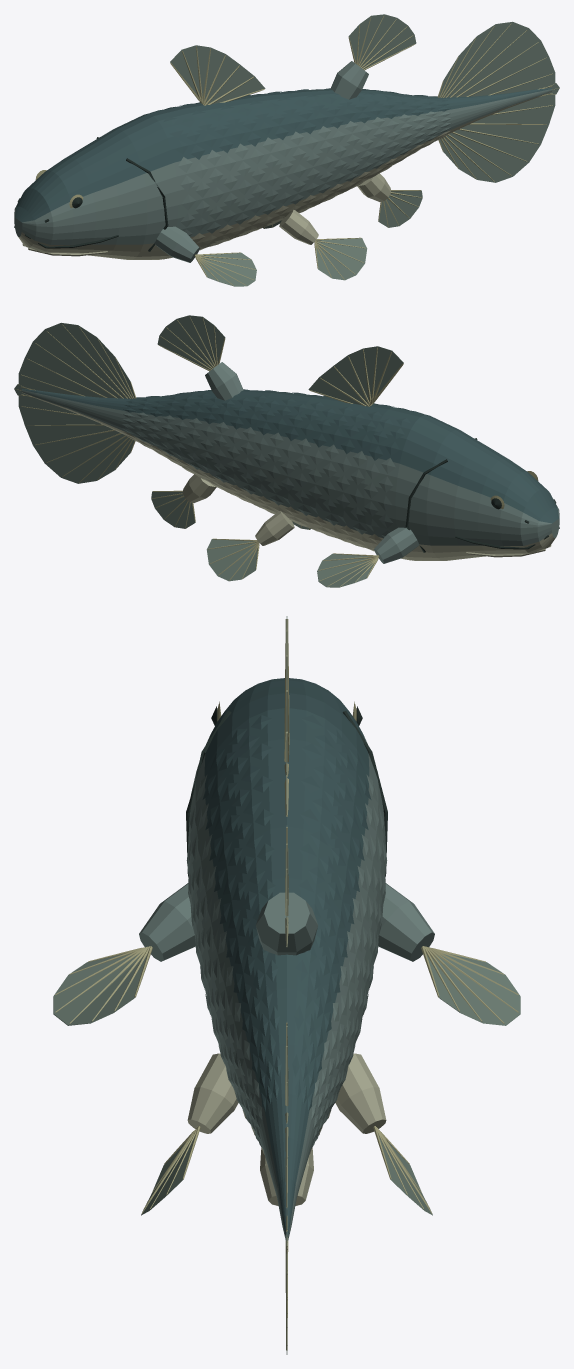
3 views of the same model, one above another, from view 1: azimuth 30°, elevation 25°; view 2: azimuth 150°, elevation 25°; view 3: azimuth 270°, elevation 25° (orthographic). The views are drawn at different scales.
Visible parts, largest first — view 1: Macropoma_export_surface; view 2: Macropoma_export_surface; view 3: Macropoma_export_surface.
Part boxes in pixels (bbox=[...]): Macropoma_export_surface: bbox=[14, 14, 559, 286]; Macropoma_export_surface: bbox=[14, 315, 559, 587]; Macropoma_export_surface: bbox=[53, 616, 520, 1354].
Size of the model in its own units: 0.6 by 0.2501 by 0.2241.
